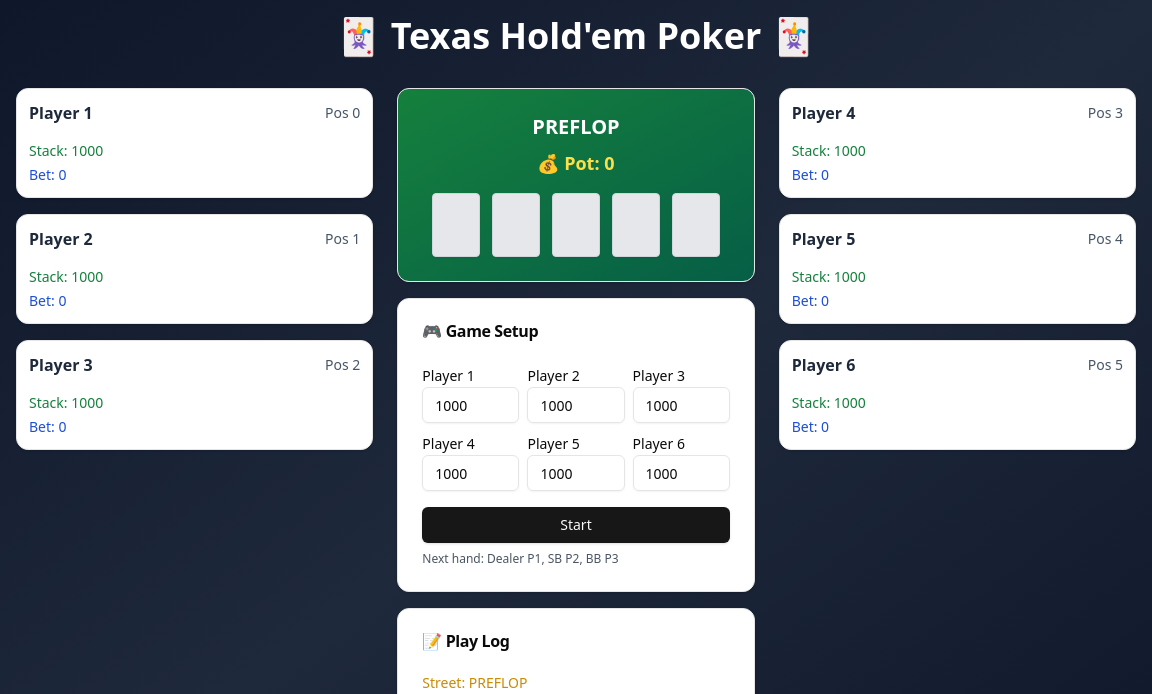
it: Poker Game Integration Tests › can start a new game
The width and height of the screenshot is (1152, 694).
// Click Start button
Click the button "Start": (576, 525) [422,507,730,543]
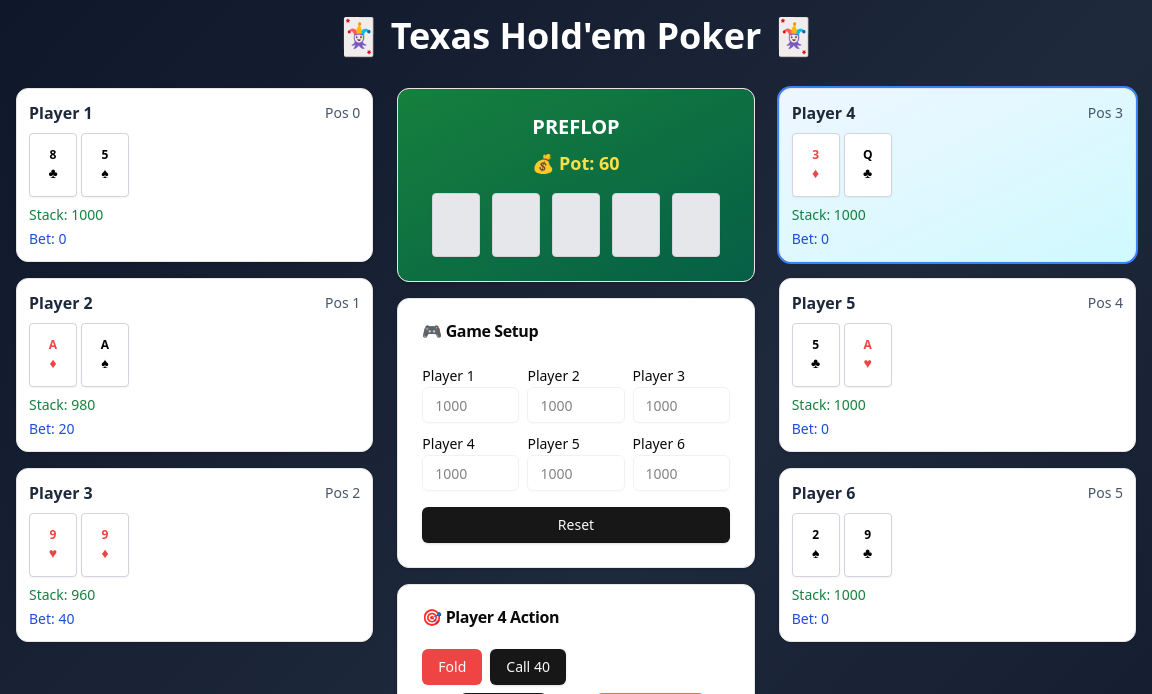
Result: the text "🎯 Player 4 Action" is shown at [422,606,559,628]
